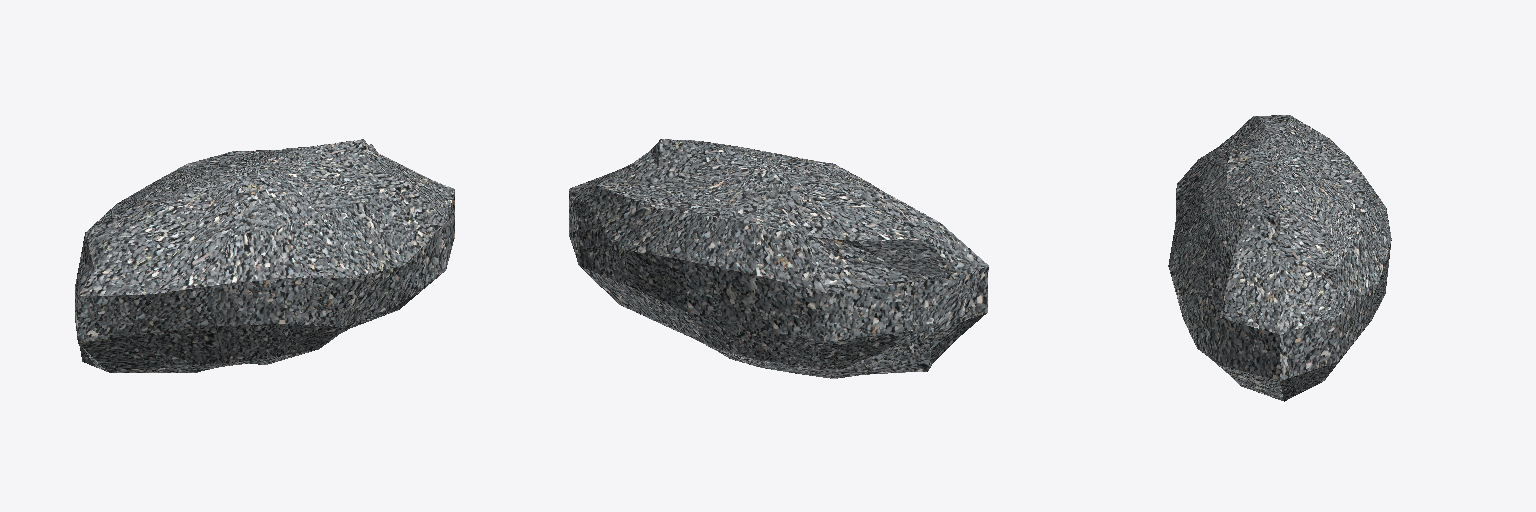
3 views of the same model, side by side, from view 1: azimuth 30°, elevation 25°; view 2: azimuth 150°, elevation 25°; view 3: azimuth 270°, elevation 25° (orthographic).
Visible parts, largest first — view 1: object_shellB, object_shellA; view 2: object_shellB, object_shellA; view 3: object_shellA, object_shellB.
Part boxes in pixels (bbox=[...]): object_shellB: bbox=[75, 158, 303, 372]; object_shellA: bbox=[210, 139, 454, 362]; object_shellB: bbox=[718, 158, 988, 378]; object_shellA: bbox=[569, 139, 797, 364]; object_shellA: bbox=[1168, 161, 1391, 401]; object_shellB: bbox=[1173, 115, 1388, 235].
Size of the model in its own units: 87.17 by 40.42 by 42.31.
4 materials, 1 textured.